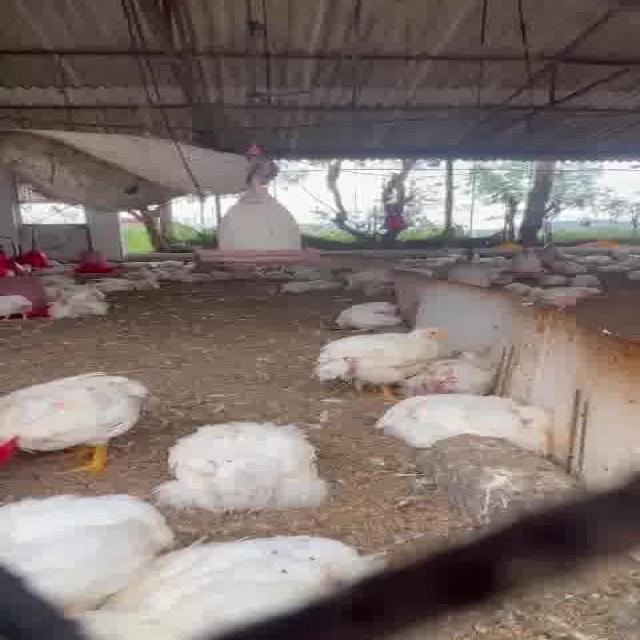AbNormal: (84, 534, 367, 628), (169, 418, 328, 514), (0, 496, 153, 589), (377, 394, 554, 446), (418, 354, 494, 392), (338, 300, 413, 325)
Normal: (9, 367, 147, 469), (302, 328, 450, 394)
